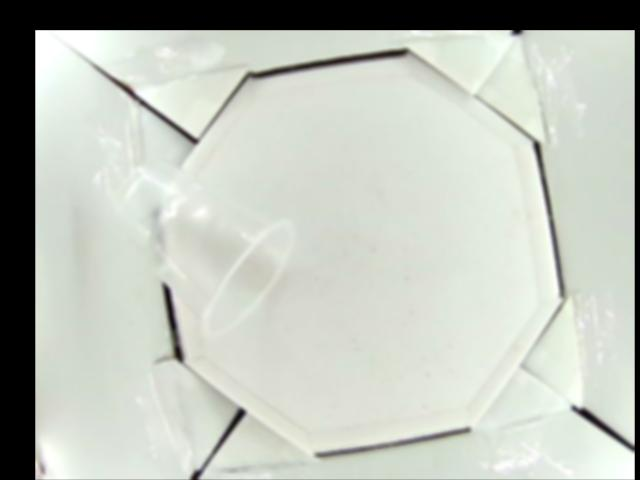Cup: (114, 156, 282, 331)
